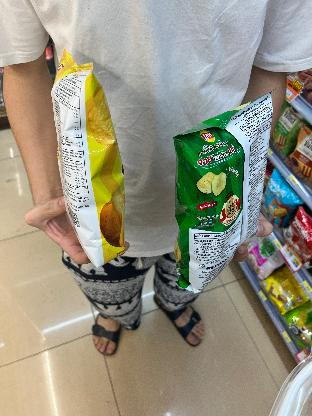Plastic Packaging: (166, 99, 282, 302), (51, 50, 137, 272)
